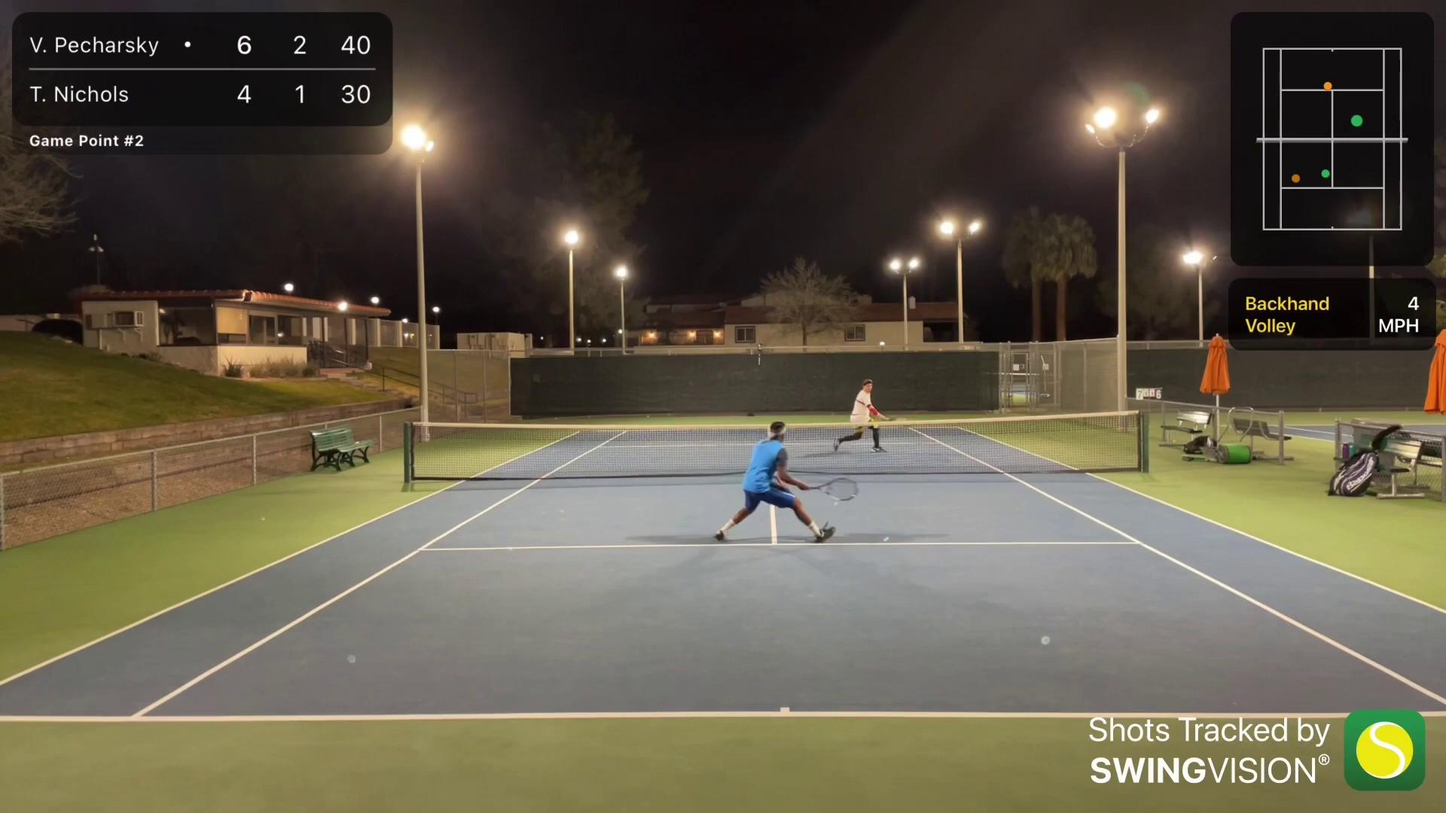ball: (870, 420, 884, 434)
